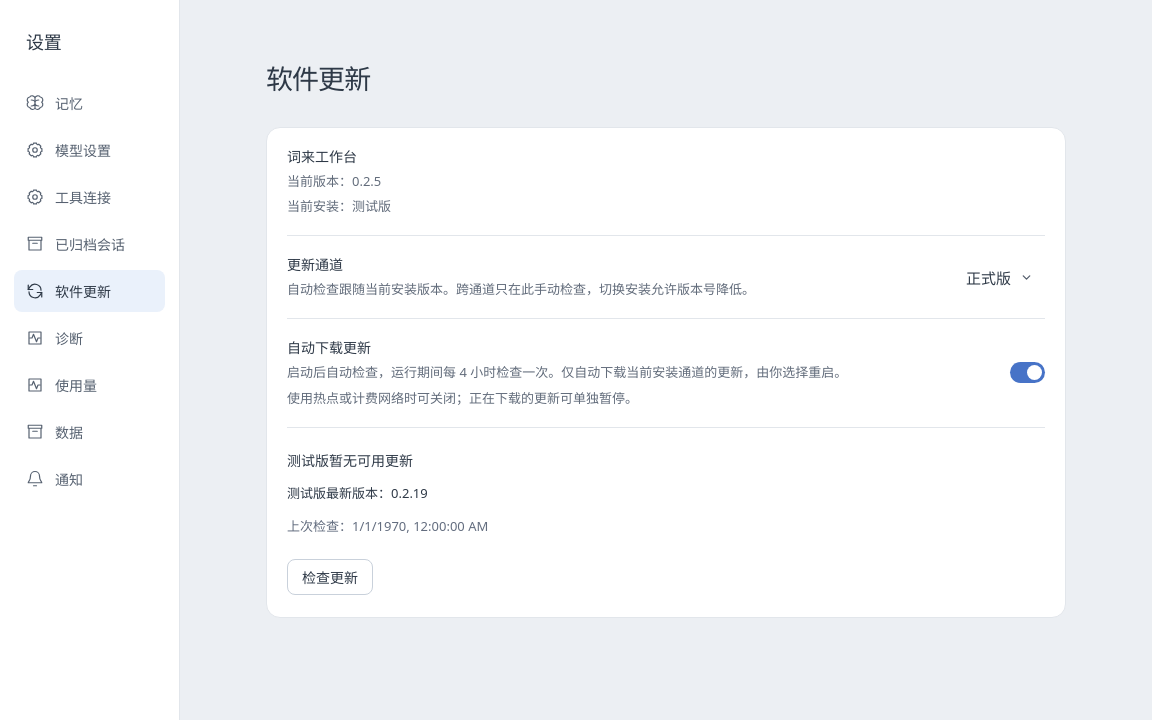
Test: 设置中的手动更新 › 保留手动通道选择，但自动检查结果明确显示实际检查的安装通道
Expected: the text "测试版暂无可用更新" is shown, top-left (287, 451), bottom-right (413, 470)
Expected: the dropdown reads "正式版", top-left (966, 259), bottom-right (1045, 295)
Click the button "检查更新" at (330, 577), box top-left (287, 559), bottom-right (373, 595)
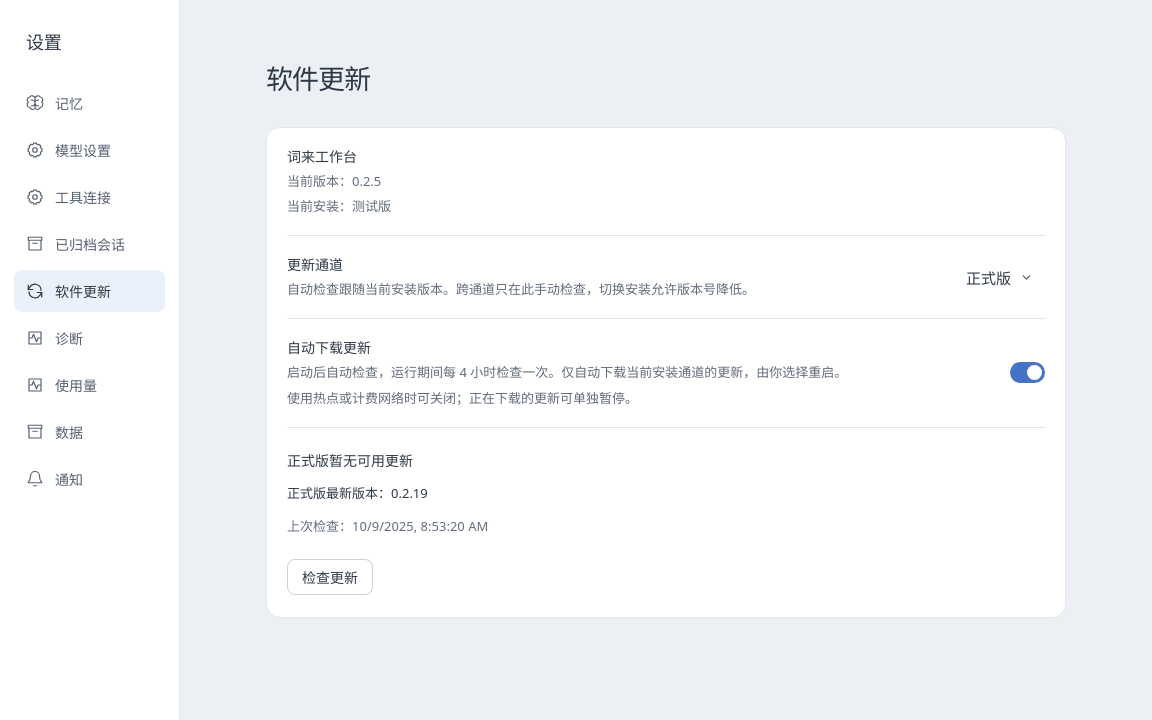
Expected: the text "正式版暂无可用更新" is shown, top-left (287, 451), bottom-right (413, 470)
